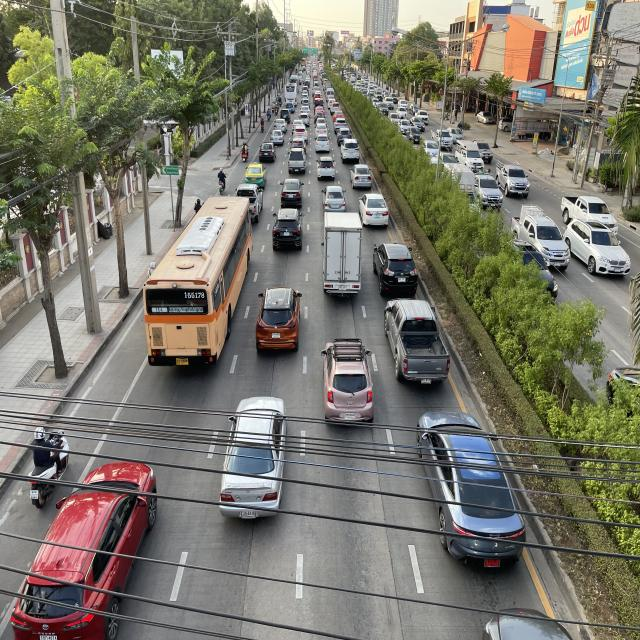bike: (20, 415, 72, 514)
bus: (140, 193, 253, 376)
truck: (320, 210, 365, 303)
